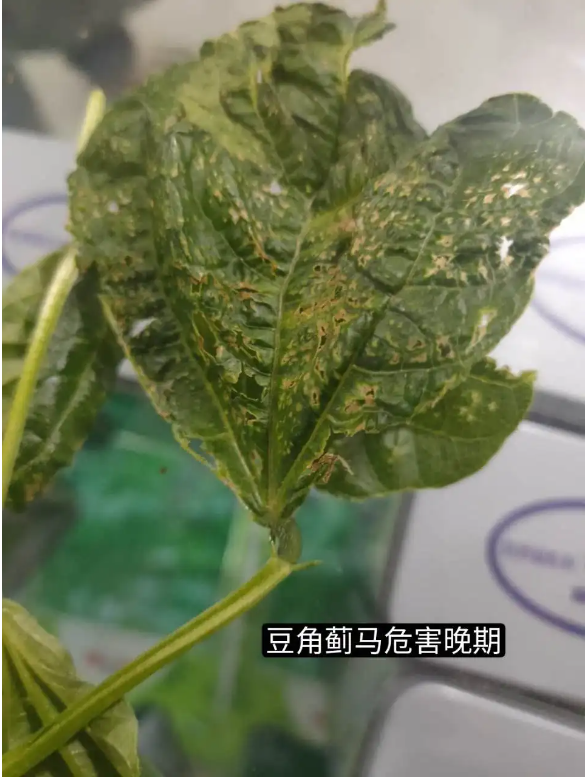thrips: (70, 4, 585, 528)
